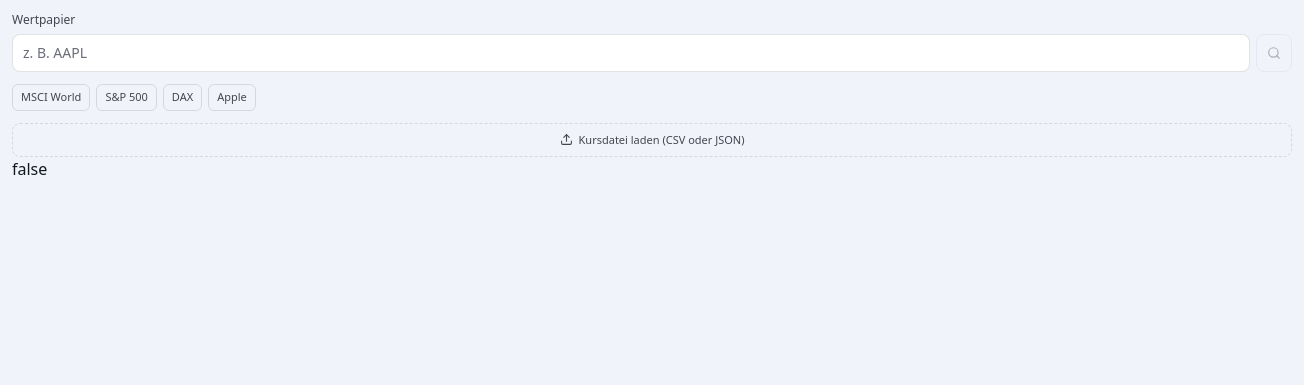
Scenario: MarketPanel › lässt die Kursserie nach zwei schnellen Abrufen eingeschaltet
In the field: (631, 53) x1=12 y1=34 x2=1250 y2=72, type "AAA"
Then press Enter
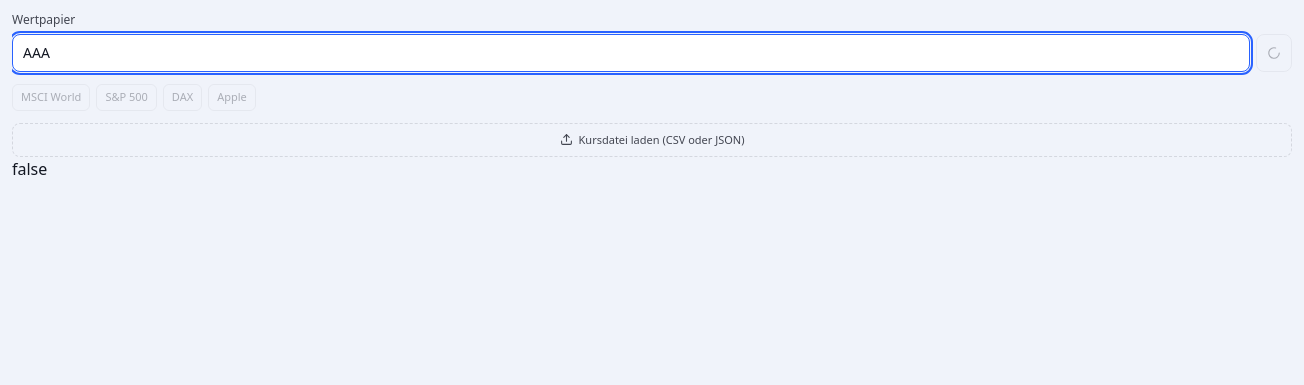
Replace the text in the field with "BBB": (631, 53) x1=12 y1=34 x2=1250 y2=72
Then press Enter
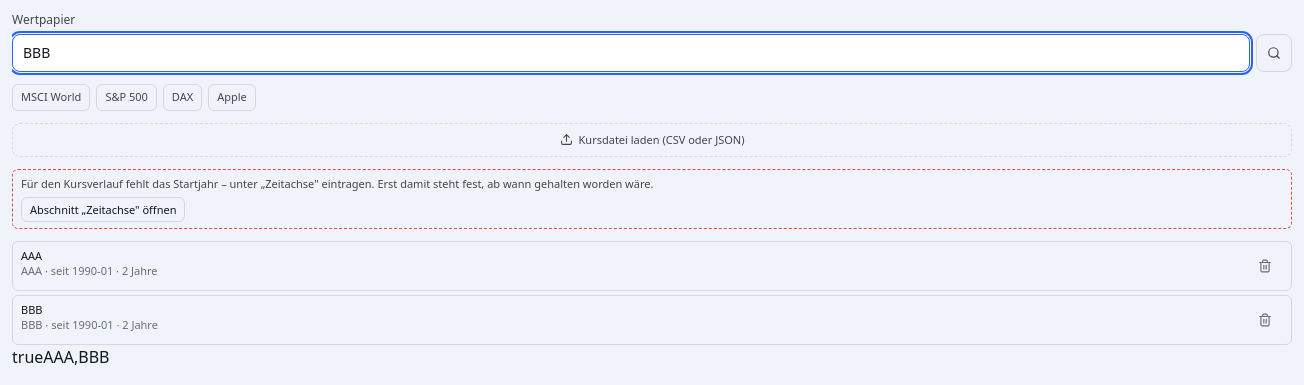
Expected: the text with test id "markets" reads "AAA,BBB", x1=43 y1=346 x2=110 y2=368
Expected: the text with test id "an" reads "true", x1=12 y1=346 x2=43 y2=368
